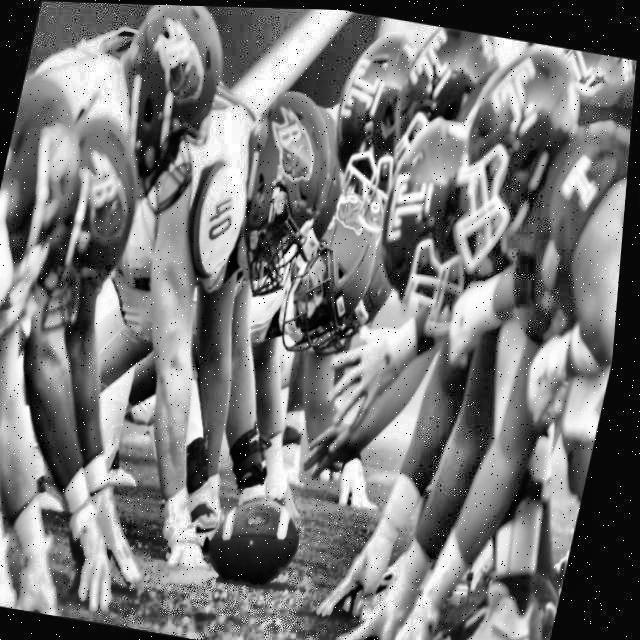Helmet: (360, 101, 534, 348), (435, 34, 598, 286), (91, 2, 240, 224), (214, 78, 354, 311), (272, 182, 396, 370), (322, 19, 443, 188)
